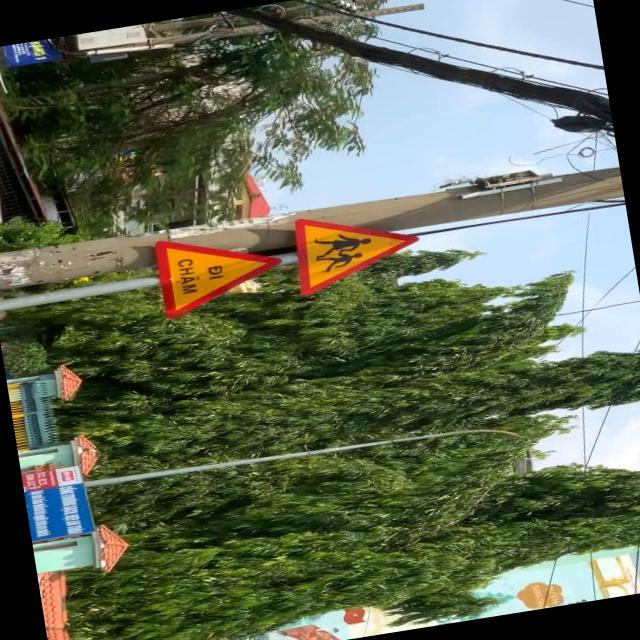W-225: (288, 198, 426, 297)
W-245a: (151, 224, 290, 320)
